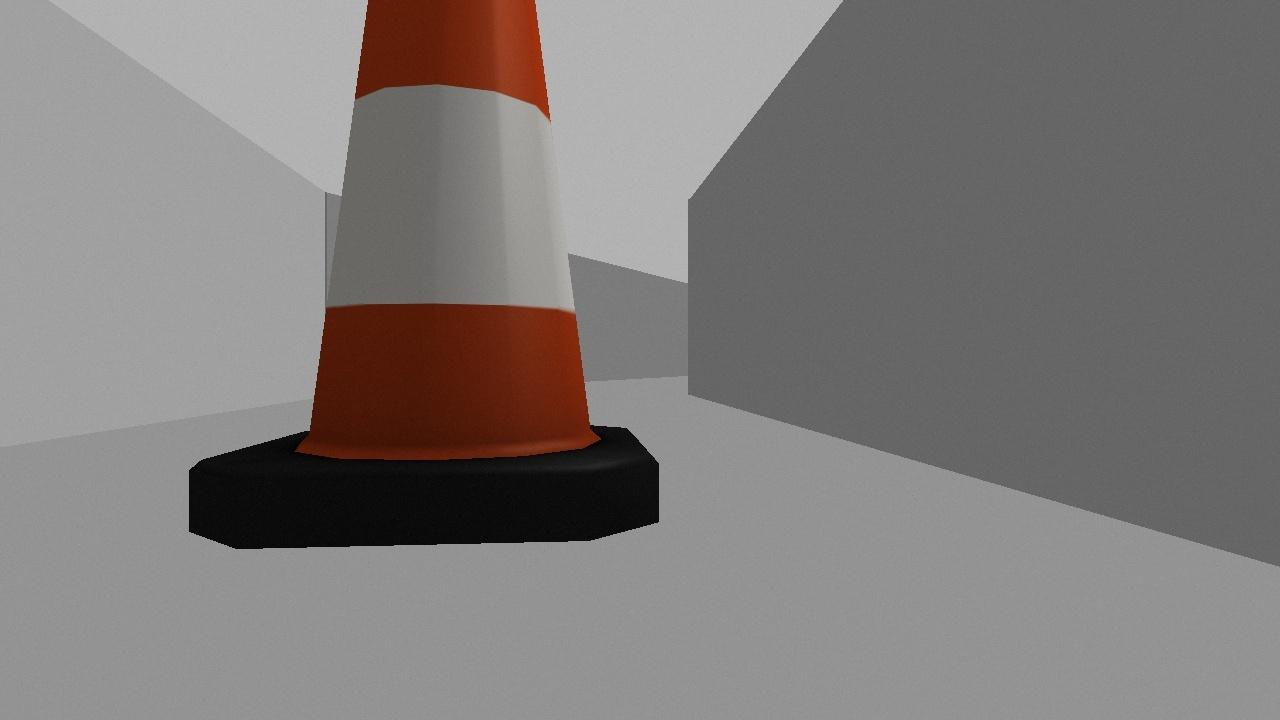cone_barrel: (149, 0, 694, 575)
